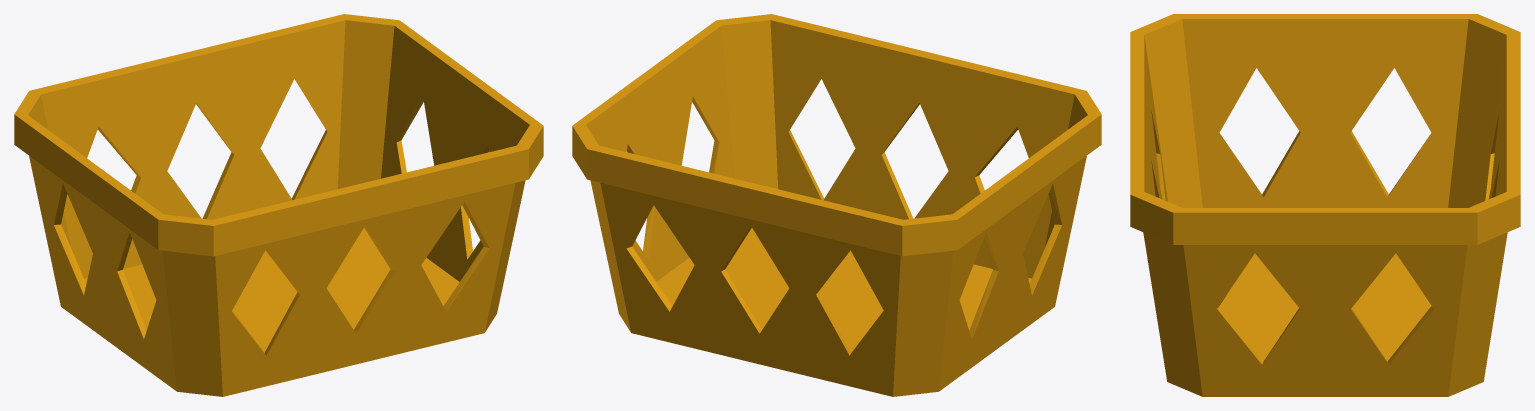
File: SM_Cook_Basket_Yellow_01.obj
The picture shows the model from 3 angles, left to right: view 1: azimuth 30°, elevation 25°; view 2: azimuth 150°, elevation 25°; view 3: azimuth 270°, elevation 25°; orthographic projection. The views are drawn at different scales.
Visible parts, largest first — view 1: SM_Cook_Basket_Yellow_01; view 2: SM_Cook_Basket_Yellow_01; view 3: SM_Cook_Basket_Yellow_01.
Part boxes in pixels (left/top/right/bottom): SM_Cook_Basket_Yellow_01: left=14, top=14, right=543, bottom=396; SM_Cook_Basket_Yellow_01: left=572, top=14, right=1101, bottom=396; SM_Cook_Basket_Yellow_01: left=1130, top=14, right=1520, bottom=396.
Size of the model in its own units: 0.318 by 0.15 by 0.2638.
1 material, 1 textured.
